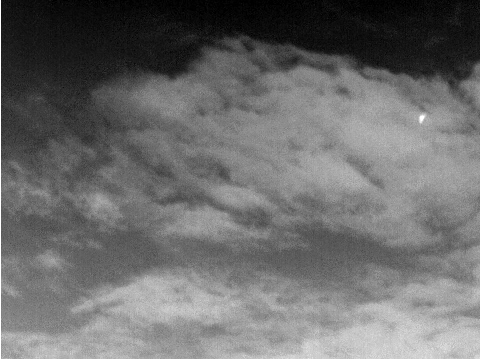dim target: (417, 113, 427, 123)
